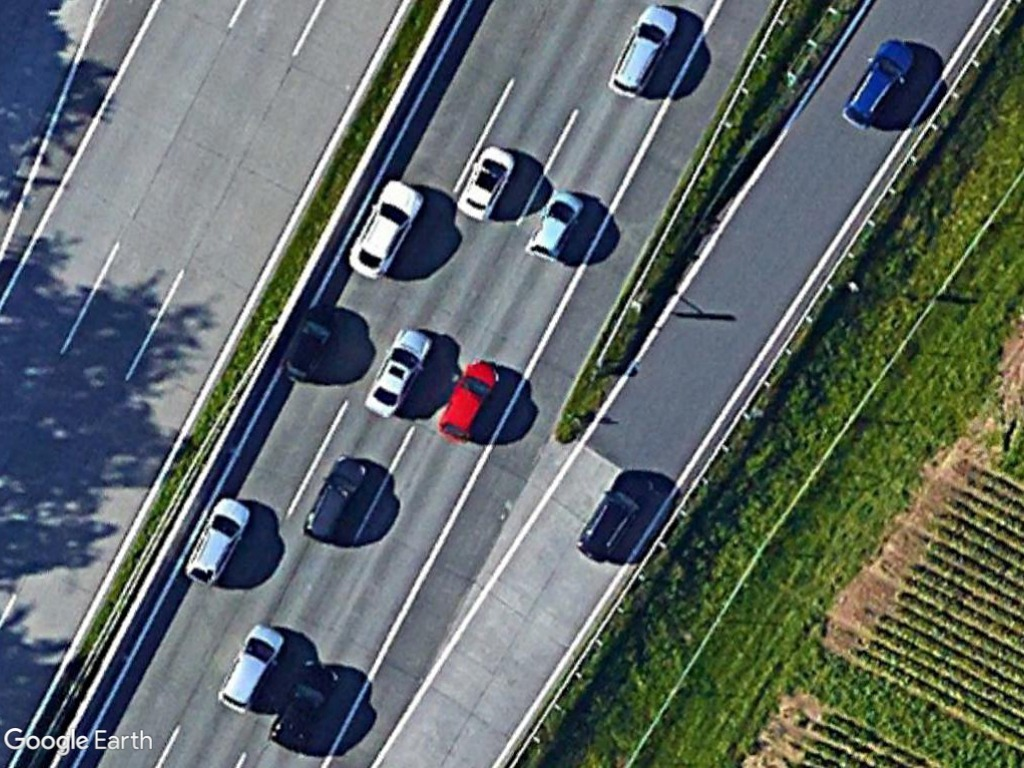car: (571, 459, 661, 567), (344, 170, 427, 283), (835, 30, 921, 134), (603, 1, 685, 100), (262, 654, 341, 756), (211, 621, 292, 719), (297, 448, 373, 551), (359, 321, 438, 420), (181, 493, 252, 591), (435, 356, 505, 446), (276, 299, 346, 385), (452, 143, 522, 226), (524, 186, 590, 265)
